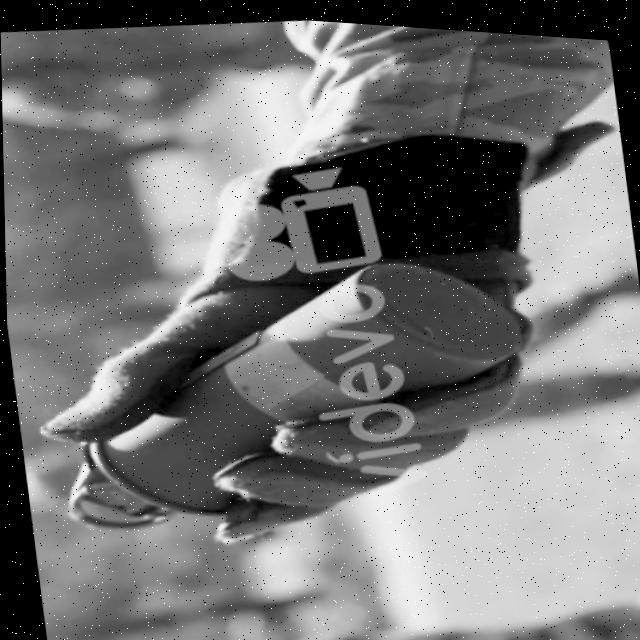grenade: (4, 202, 573, 585)
